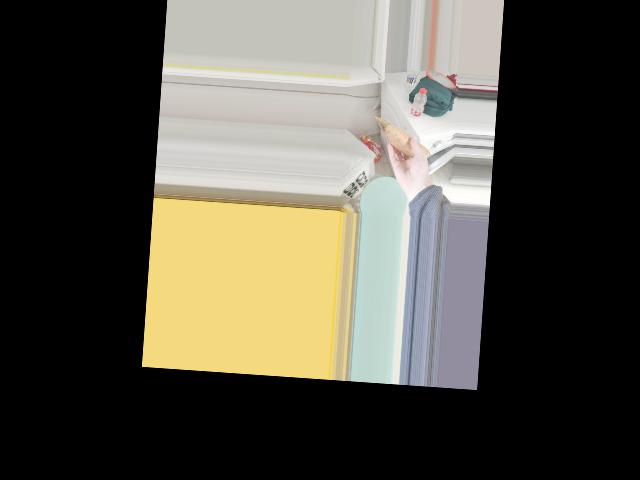sweet_potato: (387, 124, 421, 157)
